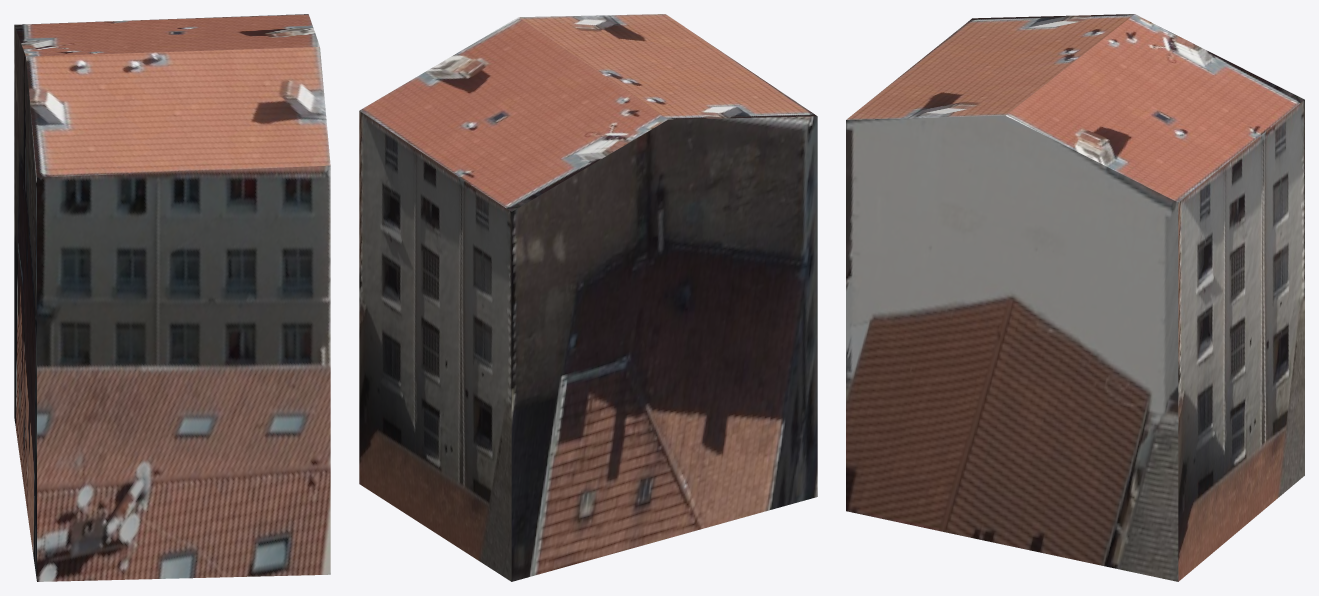
3 renders of one model, left to right at view 1: azimuth 30°, elevation 25°; view 2: azimuth 150°, elevation 25°; view 3: azimuth 270°, elevation 25°, orthographic. The views are drawn at different scales.
Visible parts, largest first — view 1: Z_UP; view 2: Z_UP; view 3: Z_UP.
Boxes of the visible parts, left/top/right/bottom form: Z_UP: left=14, top=14, right=330, bottom=581; Z_UP: left=359, top=14, right=817, bottom=581; Z_UP: left=846, top=14, right=1304, bottom=581.
Bounding box in the file's own units: 17.83 × 20.17 × 19.54.
Materials: 2 (1 with a texture image).
